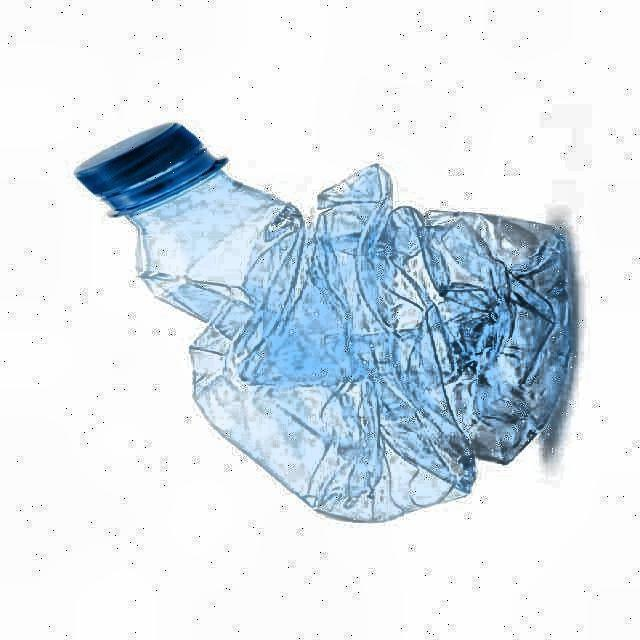plastic: (75, 124, 574, 521)
